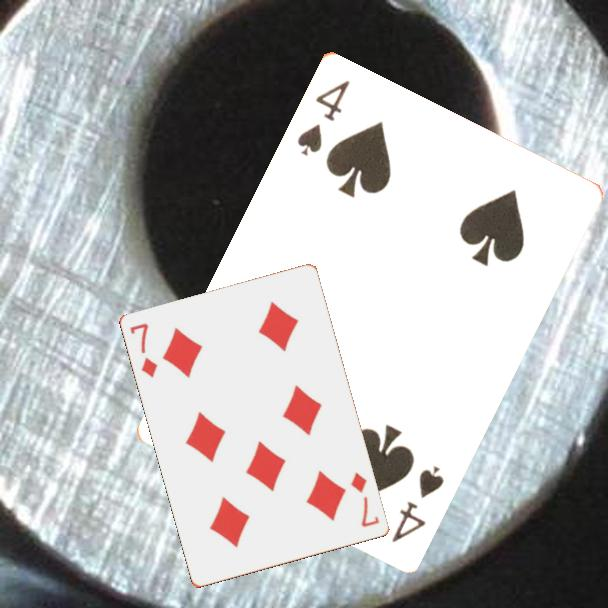d07: (348, 469, 383, 530), (127, 320, 161, 381)
s04: (387, 461, 447, 545), (293, 75, 353, 158)
